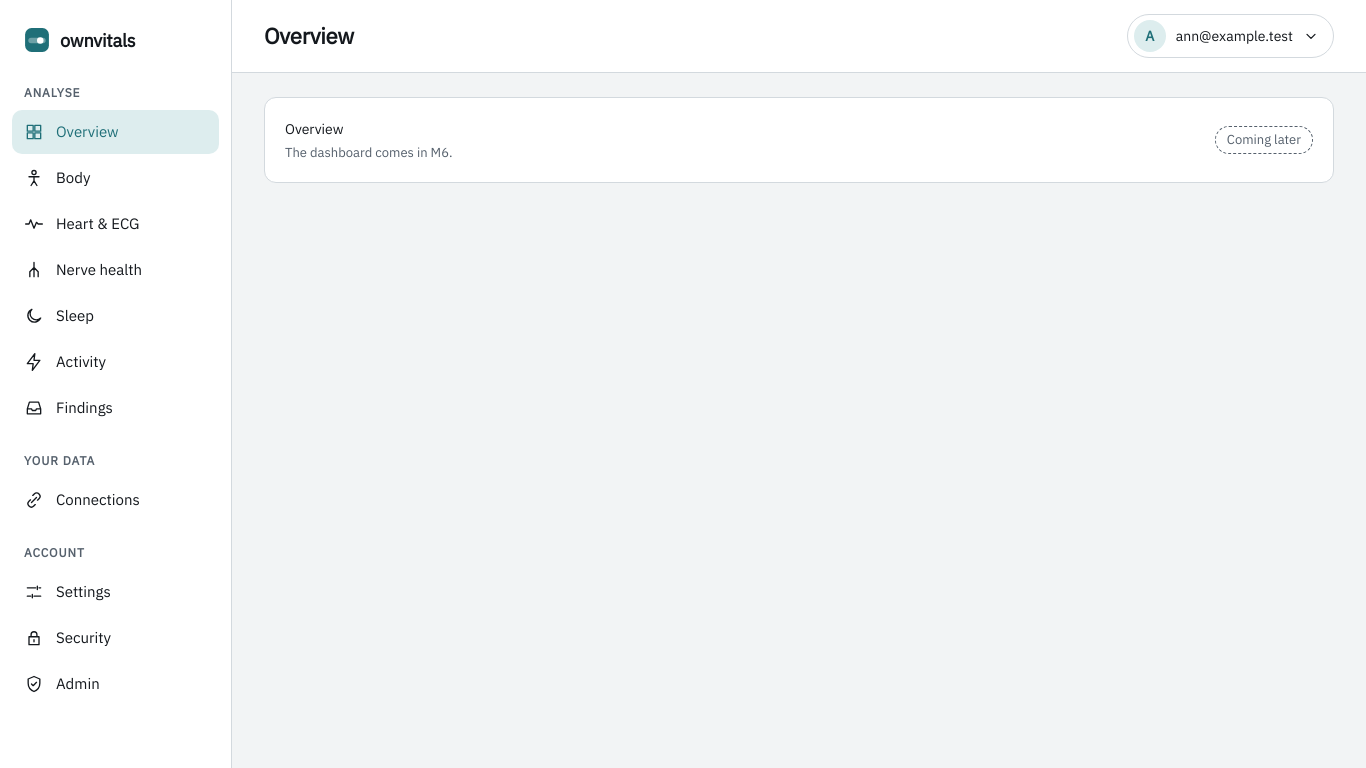
Test: the Admin area › is in the rail and the account menu for an admin, and has its screen
Expected: the heading "Overview" is shown, [264,21,354,50]
Click the button "A ann@example.test".
click(1230, 36)  # box [1127,14,1334,58]
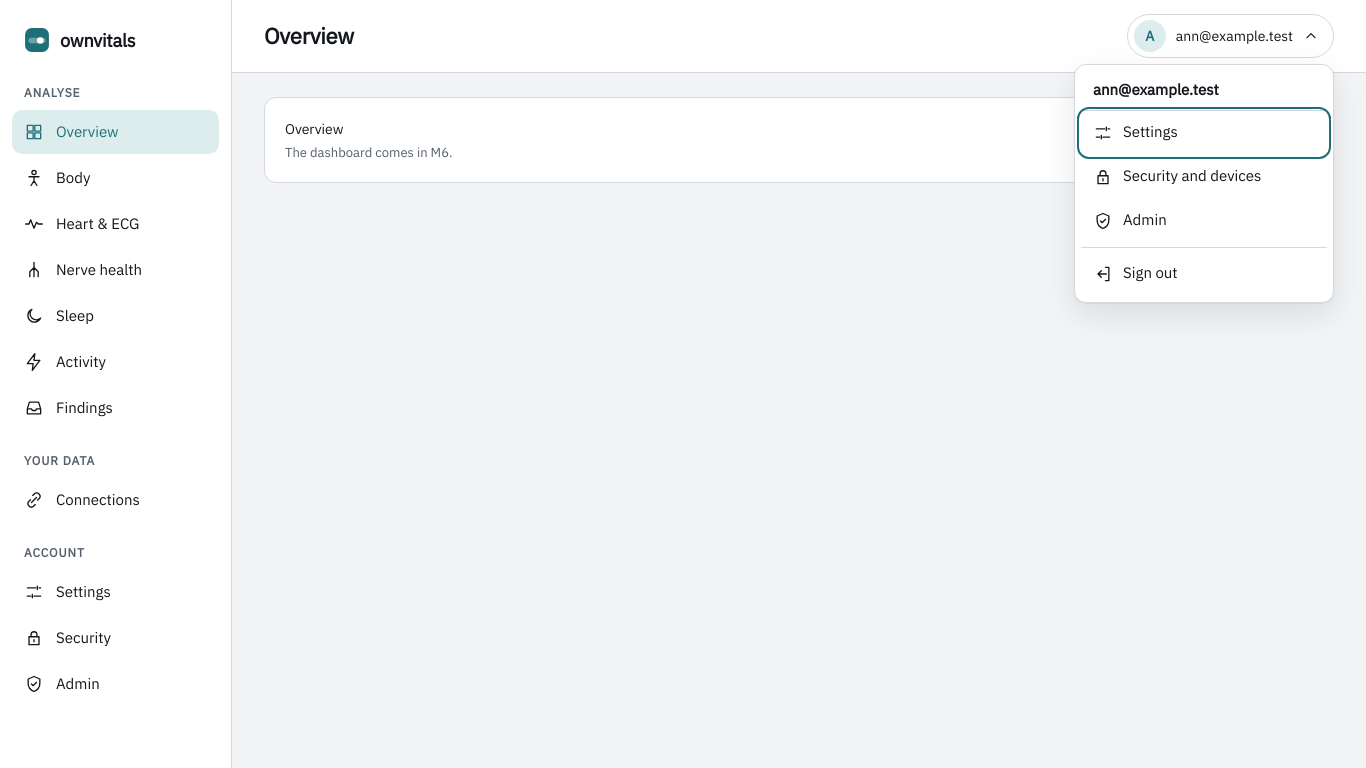
Expected: the menu item "Admin" is shown
Click the menu item "Admin".
click(1130, 220)  # box [1093,210,1167,231]
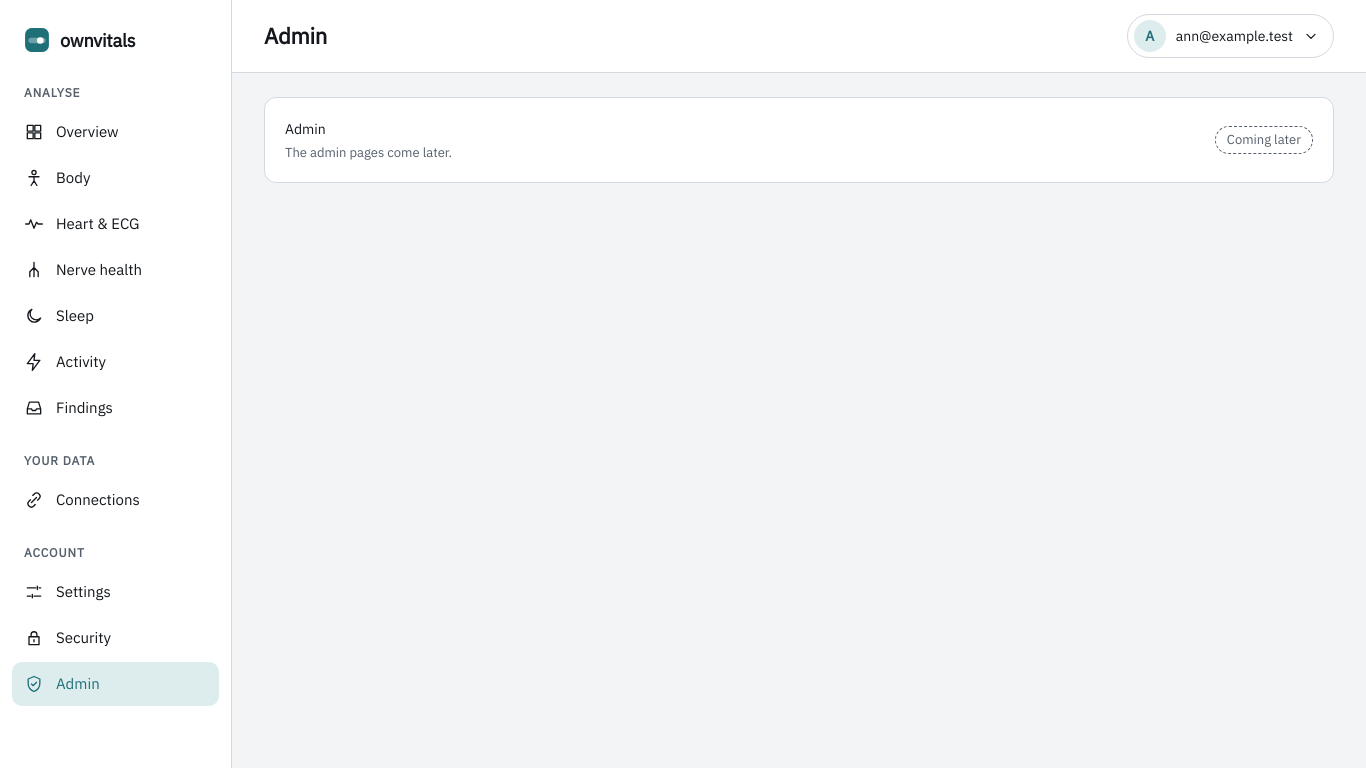
Expected: the heading "Admin" is shown, [264,21,327,50]
